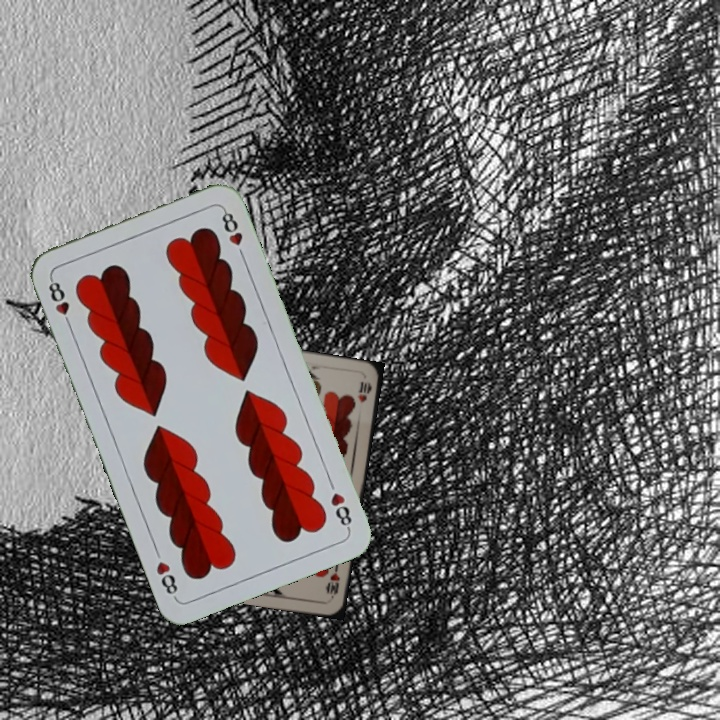H10: (323, 561, 342, 601)
H8: (44, 274, 75, 330), (326, 488, 355, 533)
